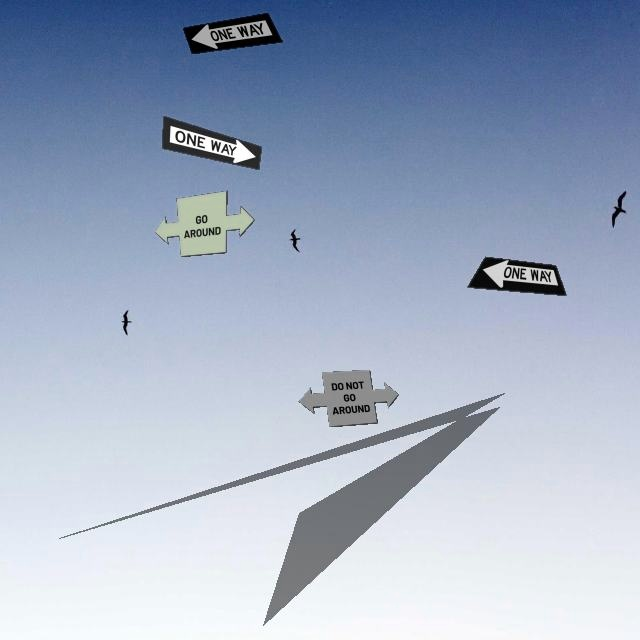DO_NOT_GO_AROUND: (298, 369, 399, 427)
GO_AROUND: (154, 190, 255, 257)
ONE_WAY_ left: (182, 12, 283, 54), (466, 256, 567, 296)
ONE_WAY_ right: (161, 115, 262, 170)
